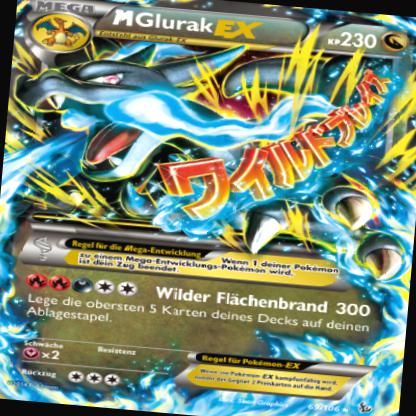Charizard: (8, 51, 414, 244)
